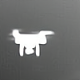plane: (7, 27, 56, 58)
